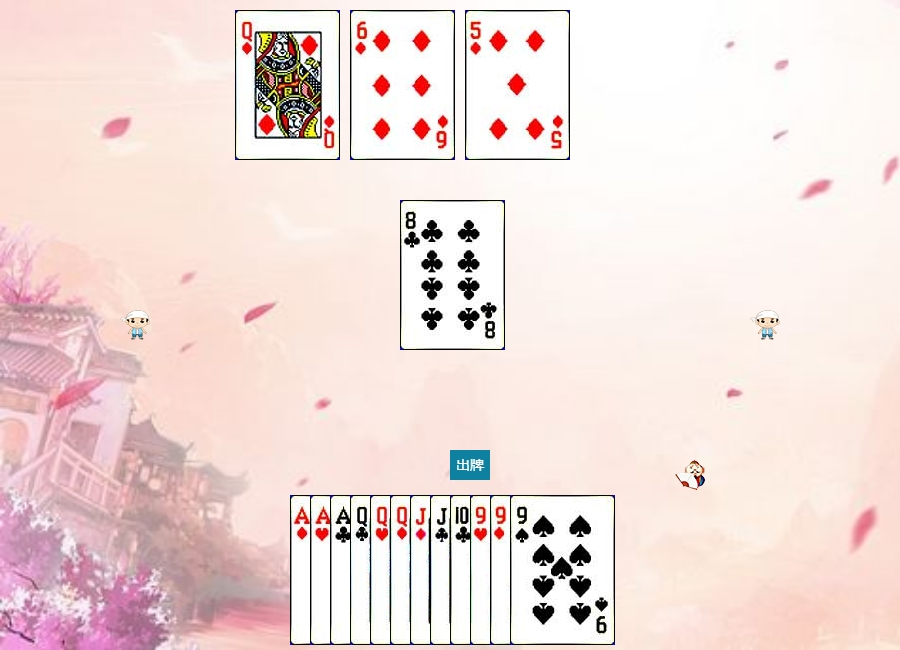10~2: (450, 495, 555, 645)
11~1: (410, 495, 515, 645)
11~2: (430, 495, 535, 645)
12~1: (235, 10, 340, 160), (390, 495, 495, 645)
12~2: (350, 495, 455, 645)
12~3: (370, 495, 475, 645)
14~1: (290, 495, 395, 645)
14~2: (330, 495, 435, 645)
14~3: (310, 495, 415, 645)
5~1: (465, 10, 570, 160)
6~1: (350, 10, 455, 160)
8~2: (400, 200, 505, 350)
9~1: (490, 495, 595, 645)
9~3: (470, 495, 575, 645)
9~4: (510, 495, 615, 645)
